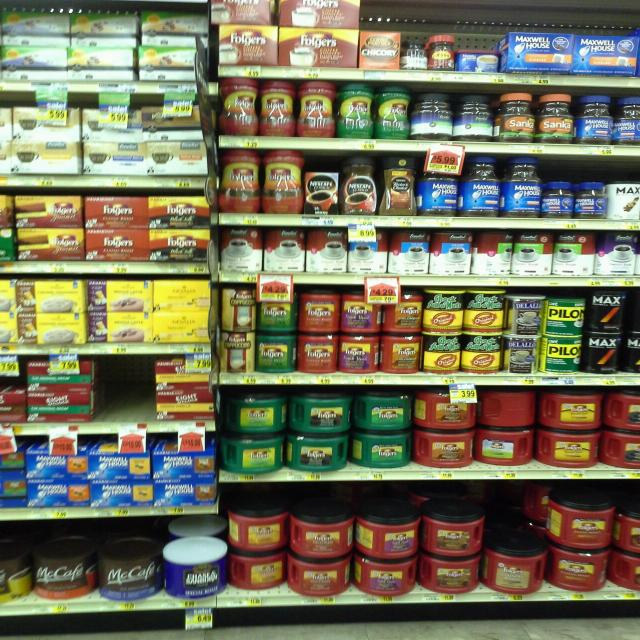void: (97, 354, 153, 432)
